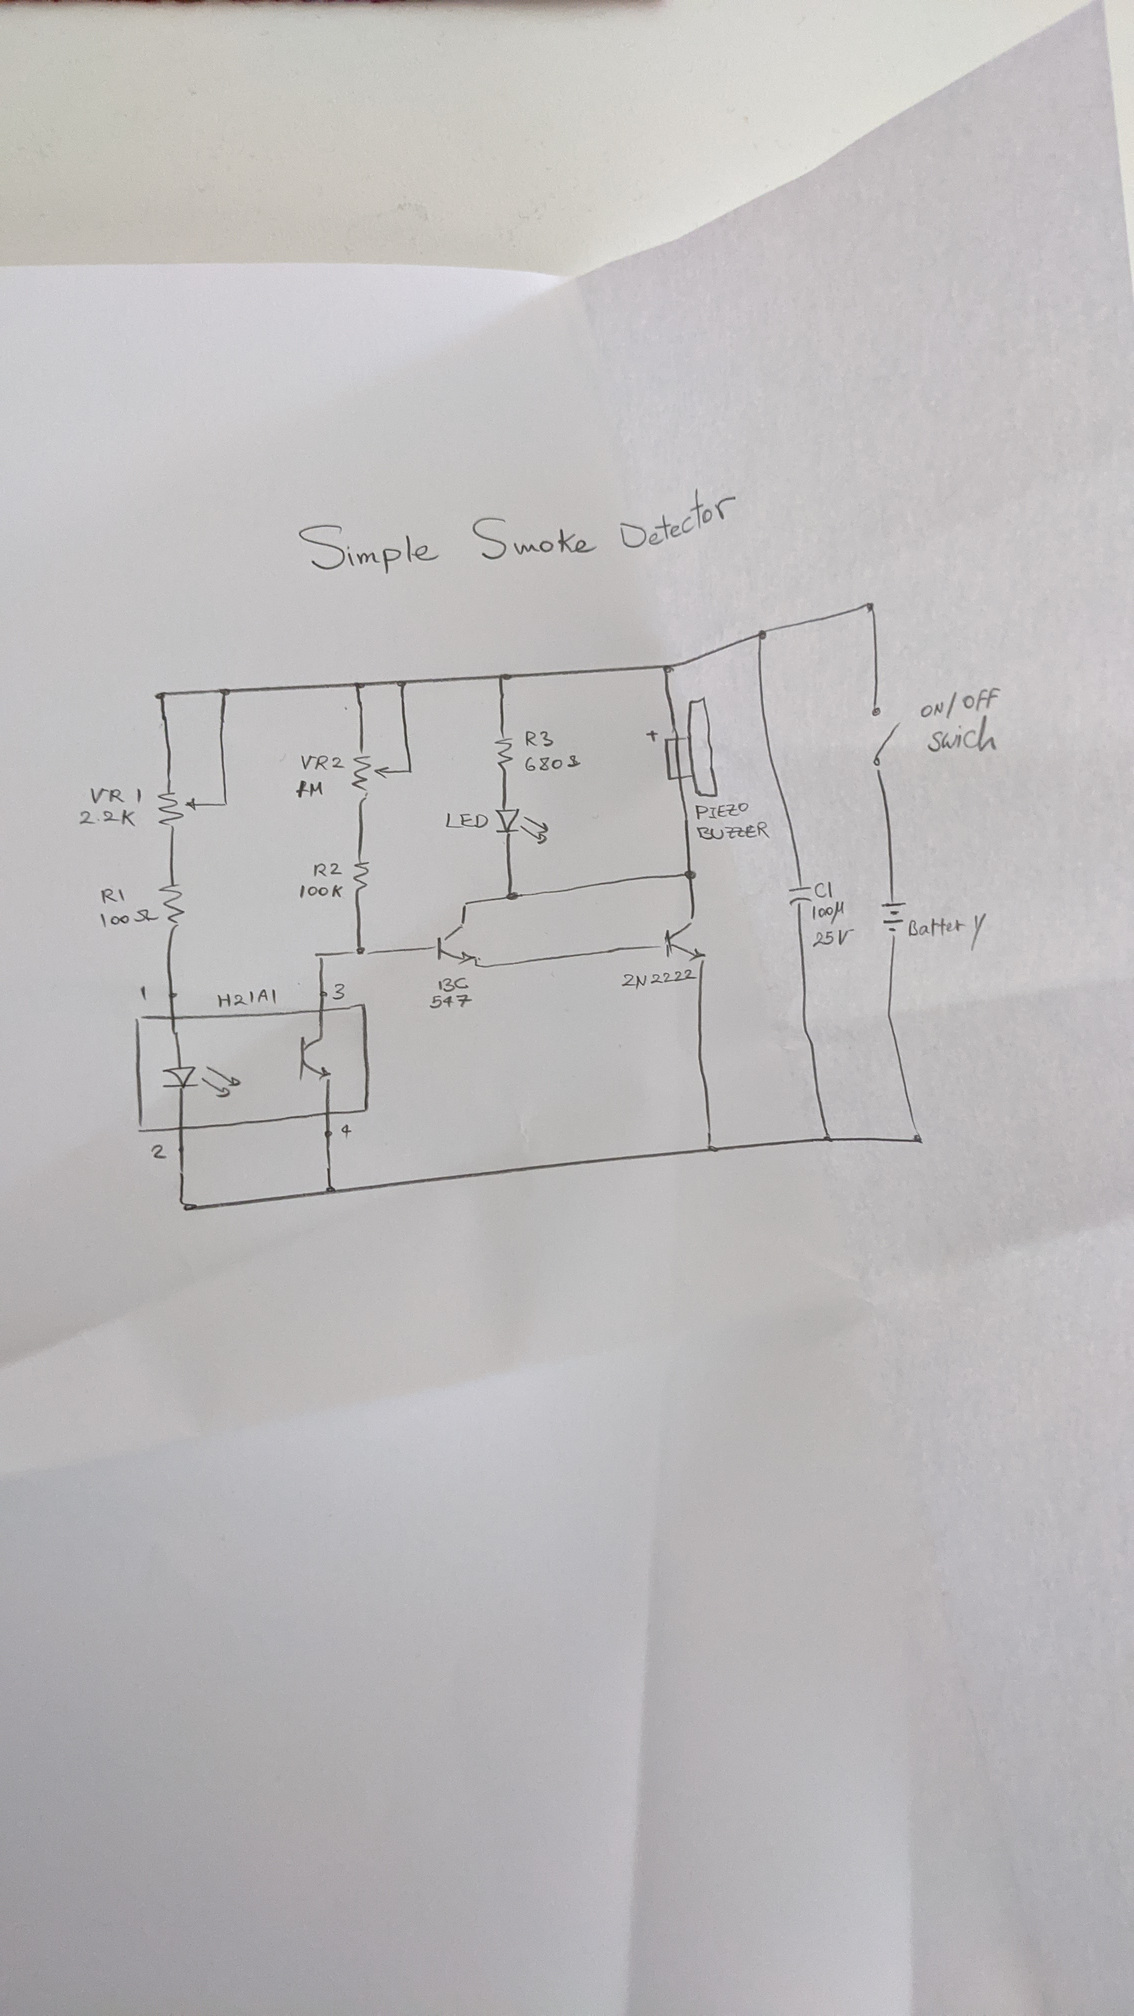capacitor.unpolarized: (785, 882, 817, 908)
diode.light_emitting: (492, 804, 552, 846)
integrated_circuit: (132, 1001, 377, 1135)
junction: (177, 1195, 199, 1216), (348, 942, 372, 958), (908, 1127, 928, 1146), (863, 600, 881, 616), (504, 888, 525, 901), (323, 1182, 339, 1198), (755, 627, 771, 642), (659, 660, 676, 676), (681, 867, 698, 882), (312, 948, 330, 962), (496, 670, 512, 684), (217, 685, 234, 698), (352, 678, 367, 691), (152, 690, 168, 702), (821, 1133, 836, 1145), (703, 1142, 720, 1153), (395, 677, 408, 690), (404, 764, 415, 775), (220, 798, 231, 809), (472, 962, 485, 971), (460, 899, 469, 908)
optocoupler: (161, 1032, 336, 1099)
resistor: (156, 879, 186, 935), (492, 732, 516, 773), (350, 856, 371, 894)
resistor.adjustable: (349, 748, 390, 806), (154, 785, 201, 832)
speaker: (644, 695, 720, 799)
switch: (870, 702, 903, 773)
text: (296, 486, 738, 576), (907, 912, 989, 951), (926, 714, 1001, 755), (917, 685, 1002, 720), (620, 966, 698, 990), (695, 820, 773, 840), (215, 987, 280, 1009), (98, 907, 161, 929), (78, 807, 138, 828), (523, 752, 582, 773), (694, 800, 750, 821), (89, 785, 143, 804), (444, 810, 490, 831), (810, 900, 847, 925), (299, 752, 346, 771), (811, 928, 856, 947), (298, 882, 345, 900), (428, 993, 474, 1009), (295, 777, 325, 799), (523, 728, 555, 749), (436, 975, 469, 993), (100, 885, 127, 906), (312, 861, 343, 879), (148, 1140, 169, 1164), (813, 881, 835, 900), (338, 1119, 354, 1141), (331, 980, 348, 1001), (137, 980, 151, 1004)
transistor: (654, 914, 712, 966), (429, 919, 478, 964)
voltage.dc: (878, 899, 908, 939)
